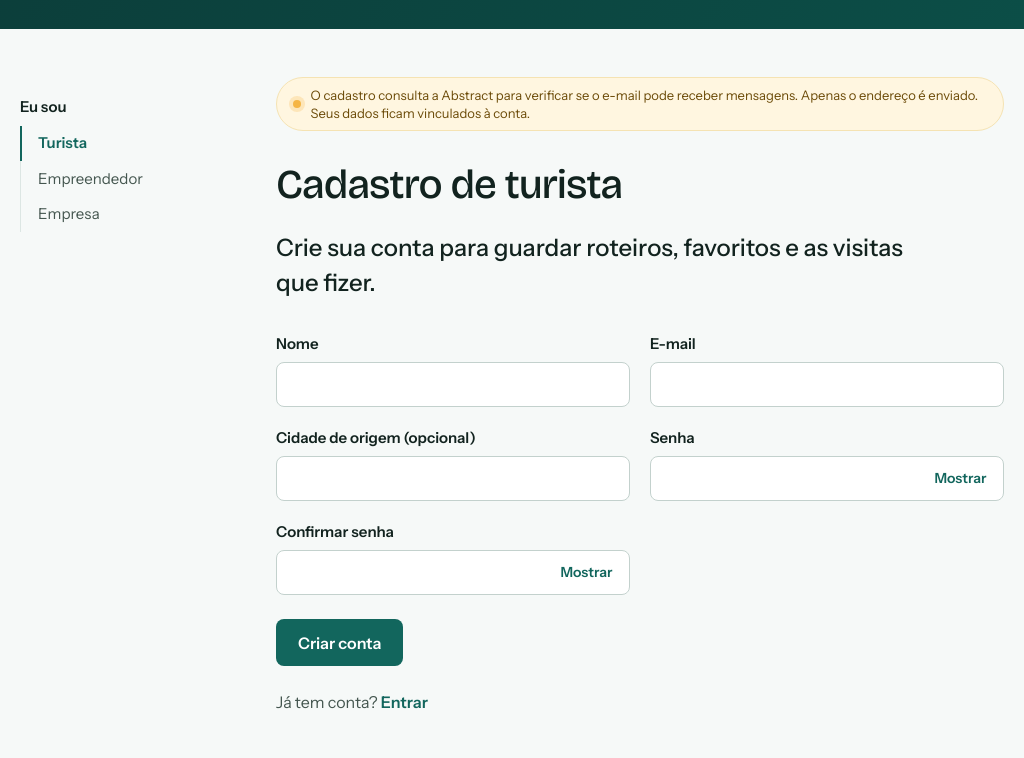
Scenario: Tela de Cadastro › bloqueia o cadastro quando a API responde invalido
The image size is (1024, 758).
(page scrolled)
Type "Maria" into the field labelled "Nome" at (453, 384), box [276,362,630,407]
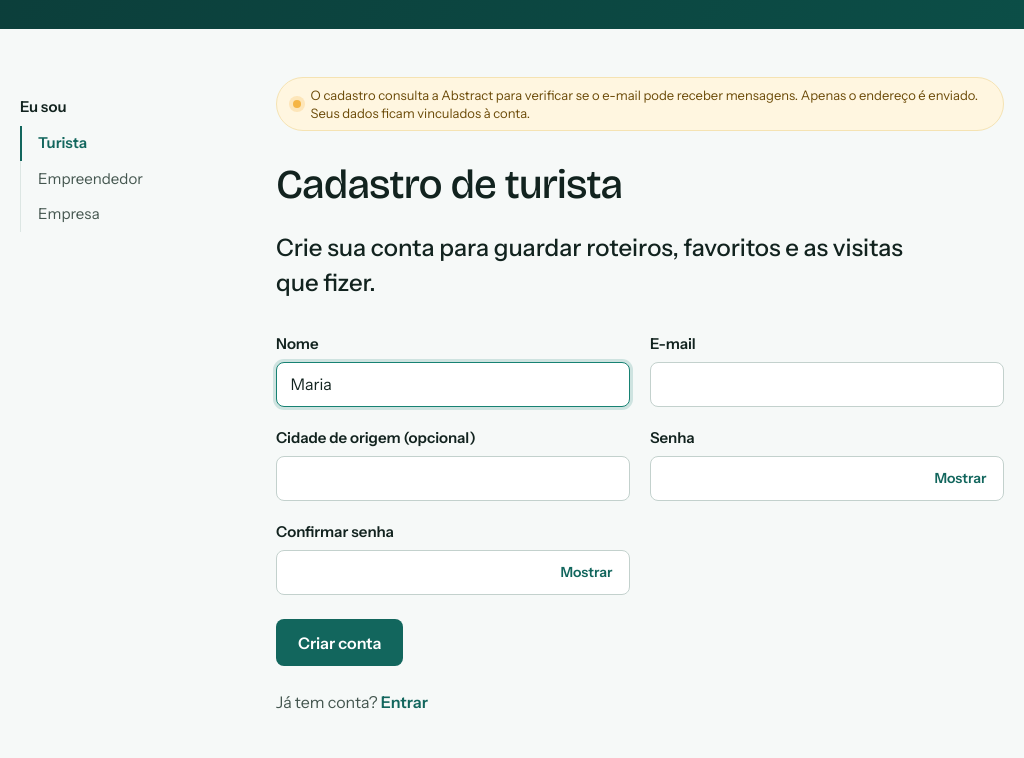
Type "maria@exemplo.com" into the field labelled "E-mail" at (827, 384), box [650,362,1004,407]
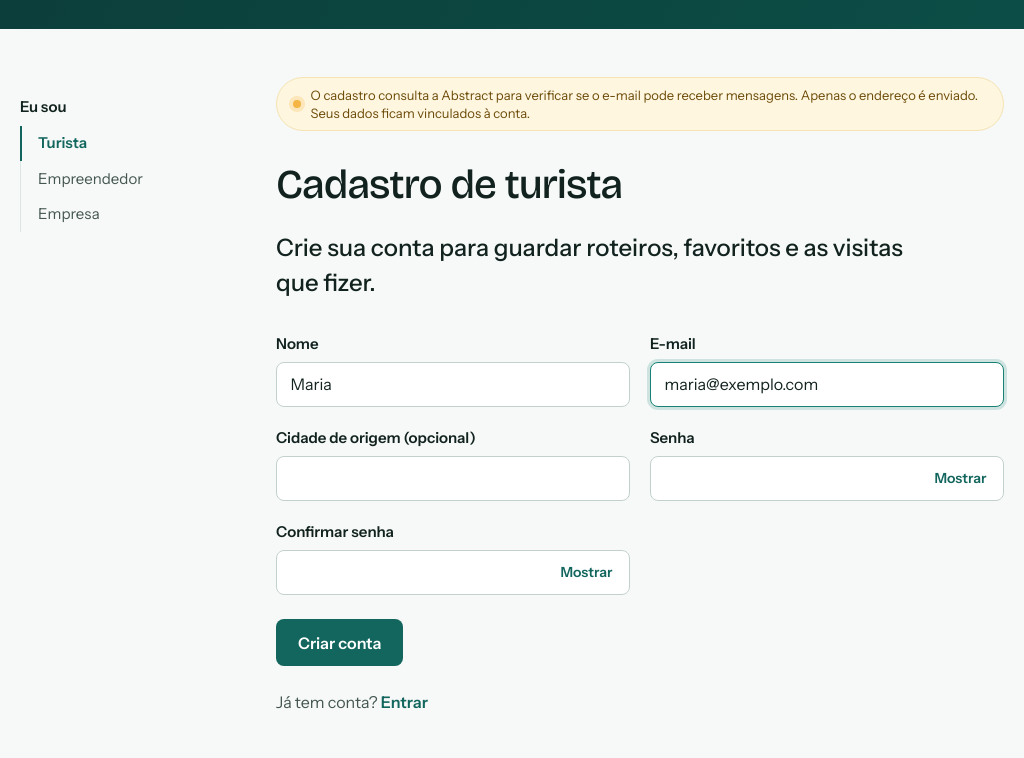
Type "Segredo1!" into the password field labelled "Senha" at (827, 478), box [650,456,1004,501]
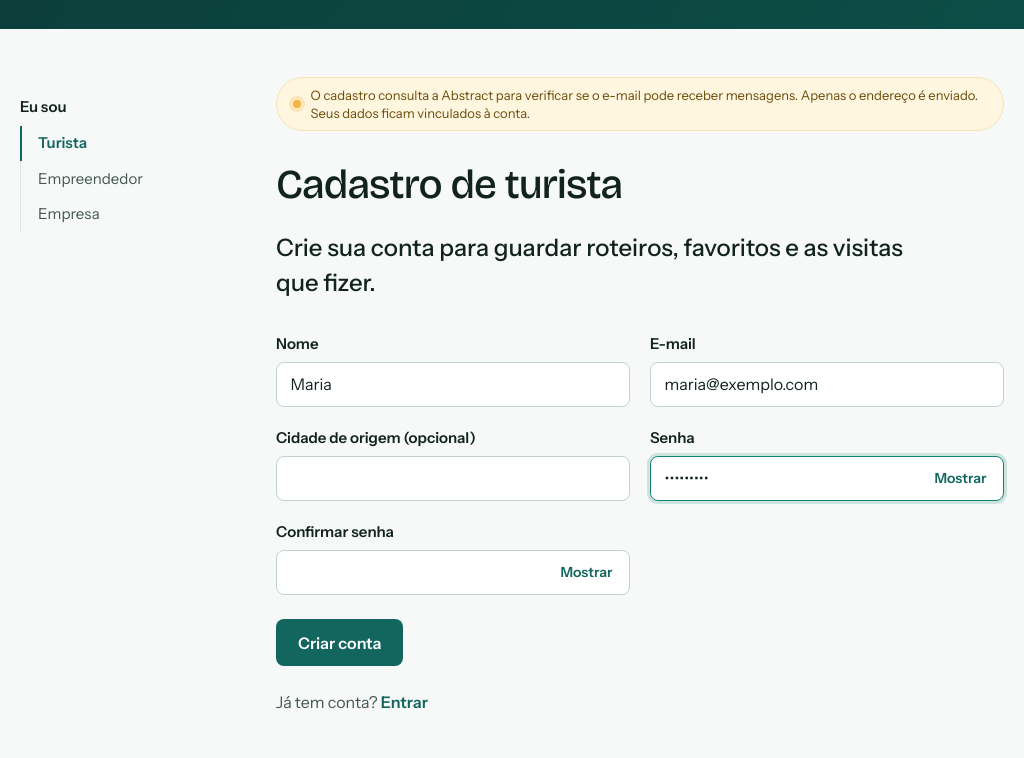
Type "Segredo1!" into the password field labelled "Confirmar senha" at (453, 572), box [276,550,630,595]
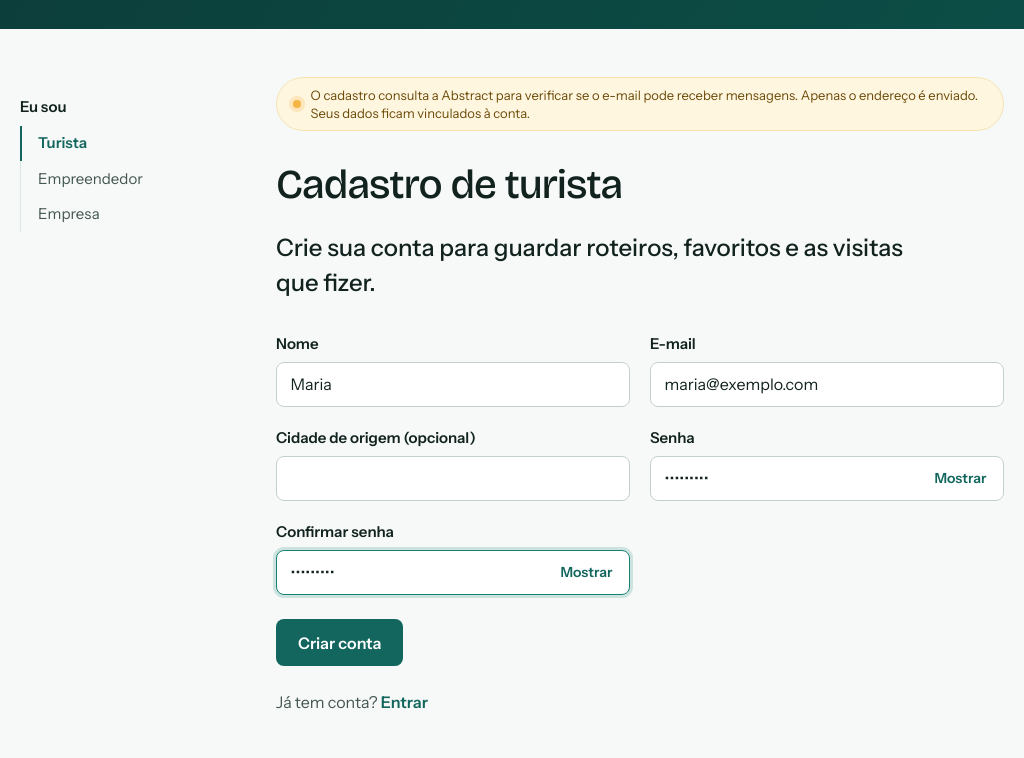
Click the button "Criar conta" at (340, 643), box [276,619,404,666]
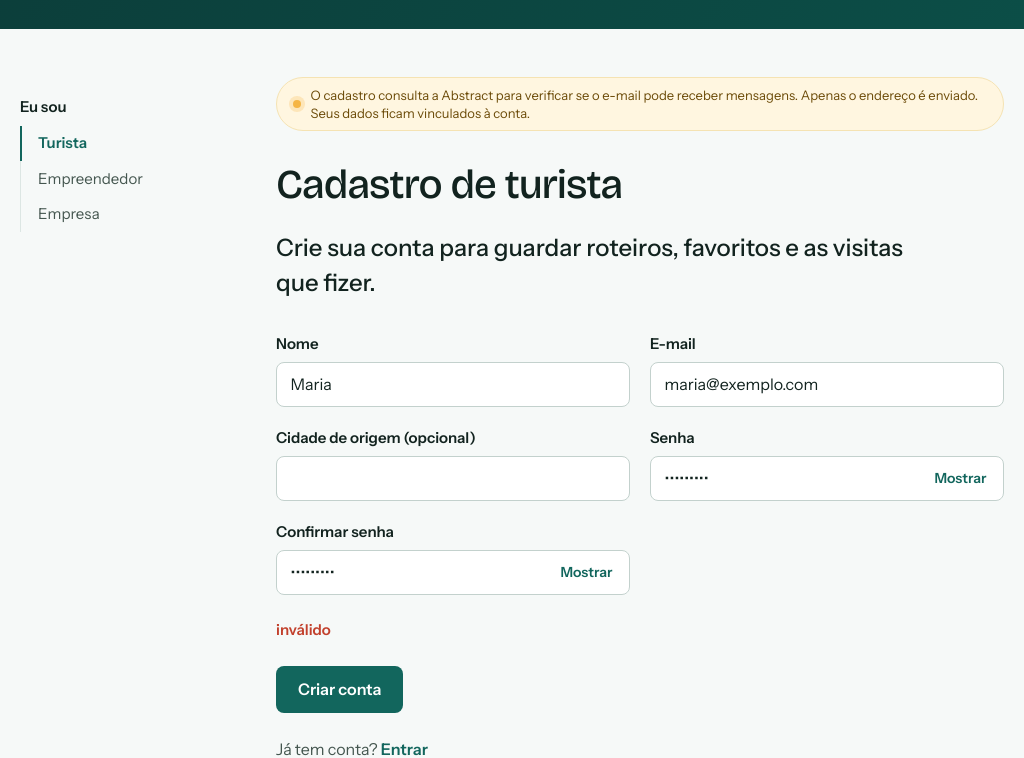
expect the message reads "inválido": met, box [276,620,331,639]
